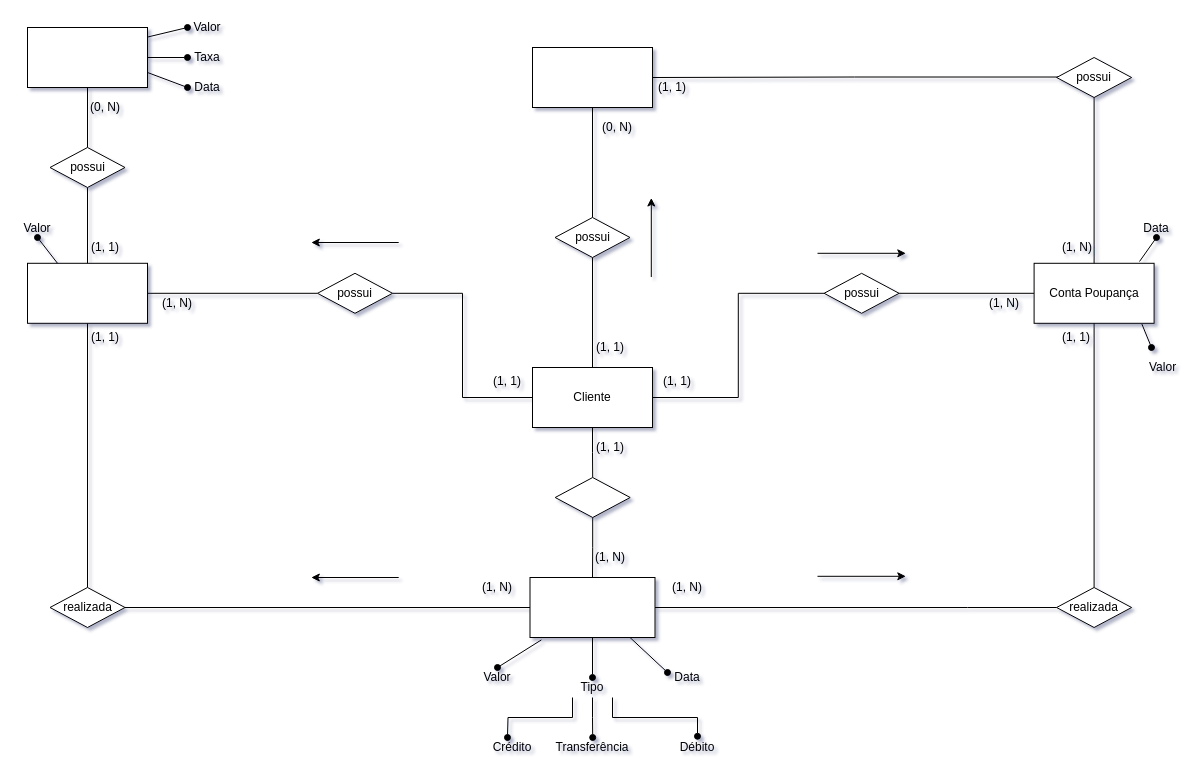
The diagram is 1199 pixels wide and 780 high, and some of its shapes have lost their labels. The shapes that lost their labels are listed below. From the top down, each one's box as (x1, y1, x2, y2) in pixels, then its label:
(26, 26, 148, 88): Aplicação pré-fixada
(532, 46, 652, 108): Dependente
(26, 262, 148, 323): Conta Corrente
(554, 476, 630, 518): realiza
(529, 576, 655, 638): Movimentação
